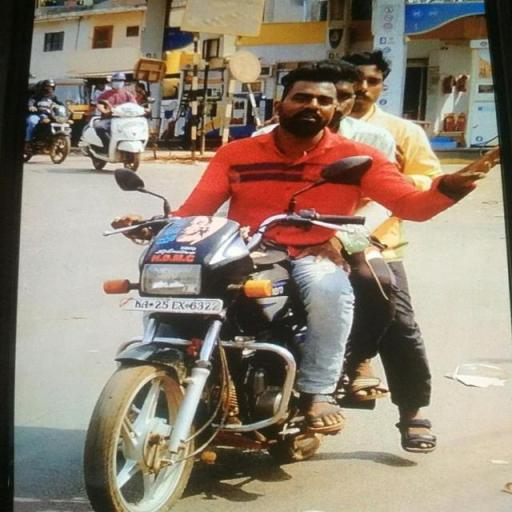tripple riding: (114, 47, 500, 218)
